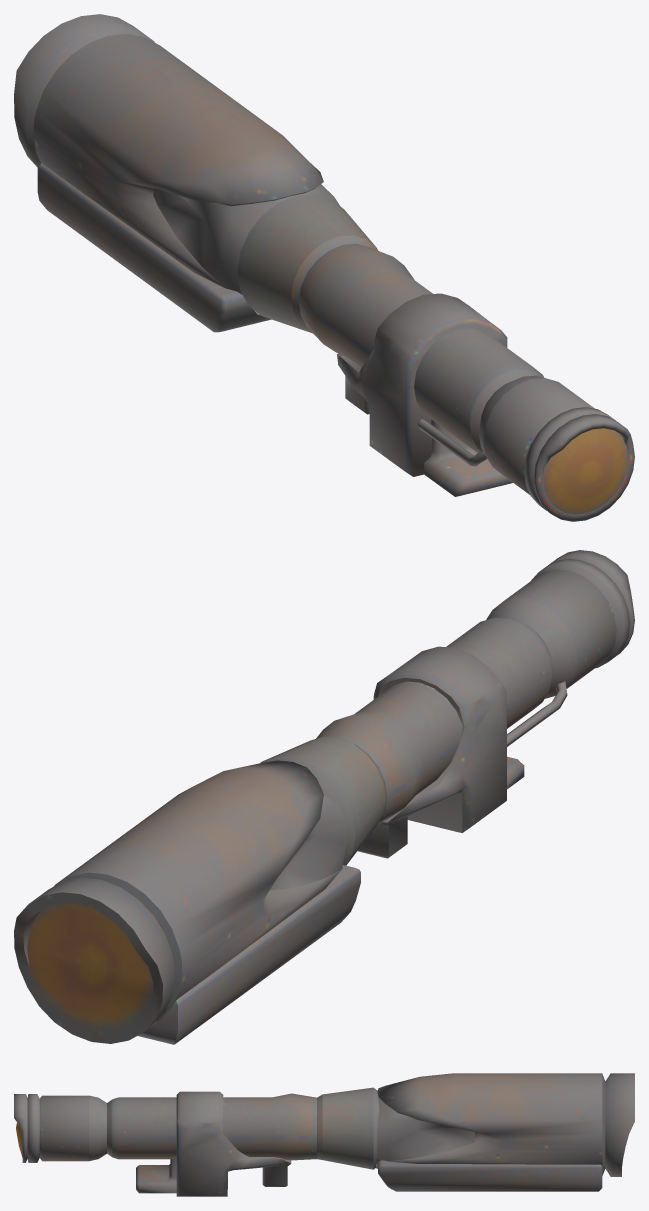
File: sight5.obj
3 renders of one model, top to bottom at view 1: azimuth 30°, elevation 25°; view 2: azimuth 150°, elevation 25°; view 3: azimuth 270°, elevation 25°, orthographic. The views are drawn at different scales.
Parts seen in each view (by area): view 1: sight5; view 2: sight5; view 3: sight5.
Boxes of the visible parts, x1,y1,x2,y2 form: sight5: (14, 14, 634, 521); sight5: (14, 550, 634, 1044); sight5: (14, 1073, 634, 1196).
Bounding box in the file's own units: 9.37 × 10.42 × 55.73.
